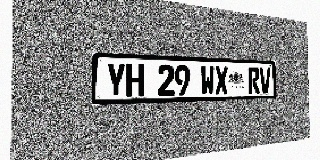2: (158, 64, 174, 96)
9: (175, 65, 190, 96)
H: (126, 63, 144, 97)
R: (248, 67, 260, 94)
V: (260, 67, 271, 93)
W: (200, 66, 215, 95)
X: (215, 66, 228, 94)
Y: (106, 63, 125, 98)
